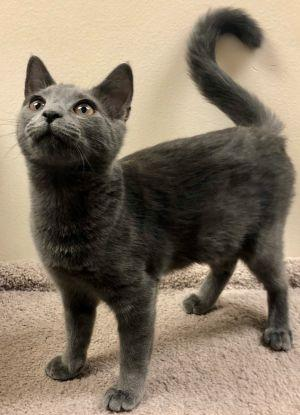rblue: (9, 43, 140, 189)
